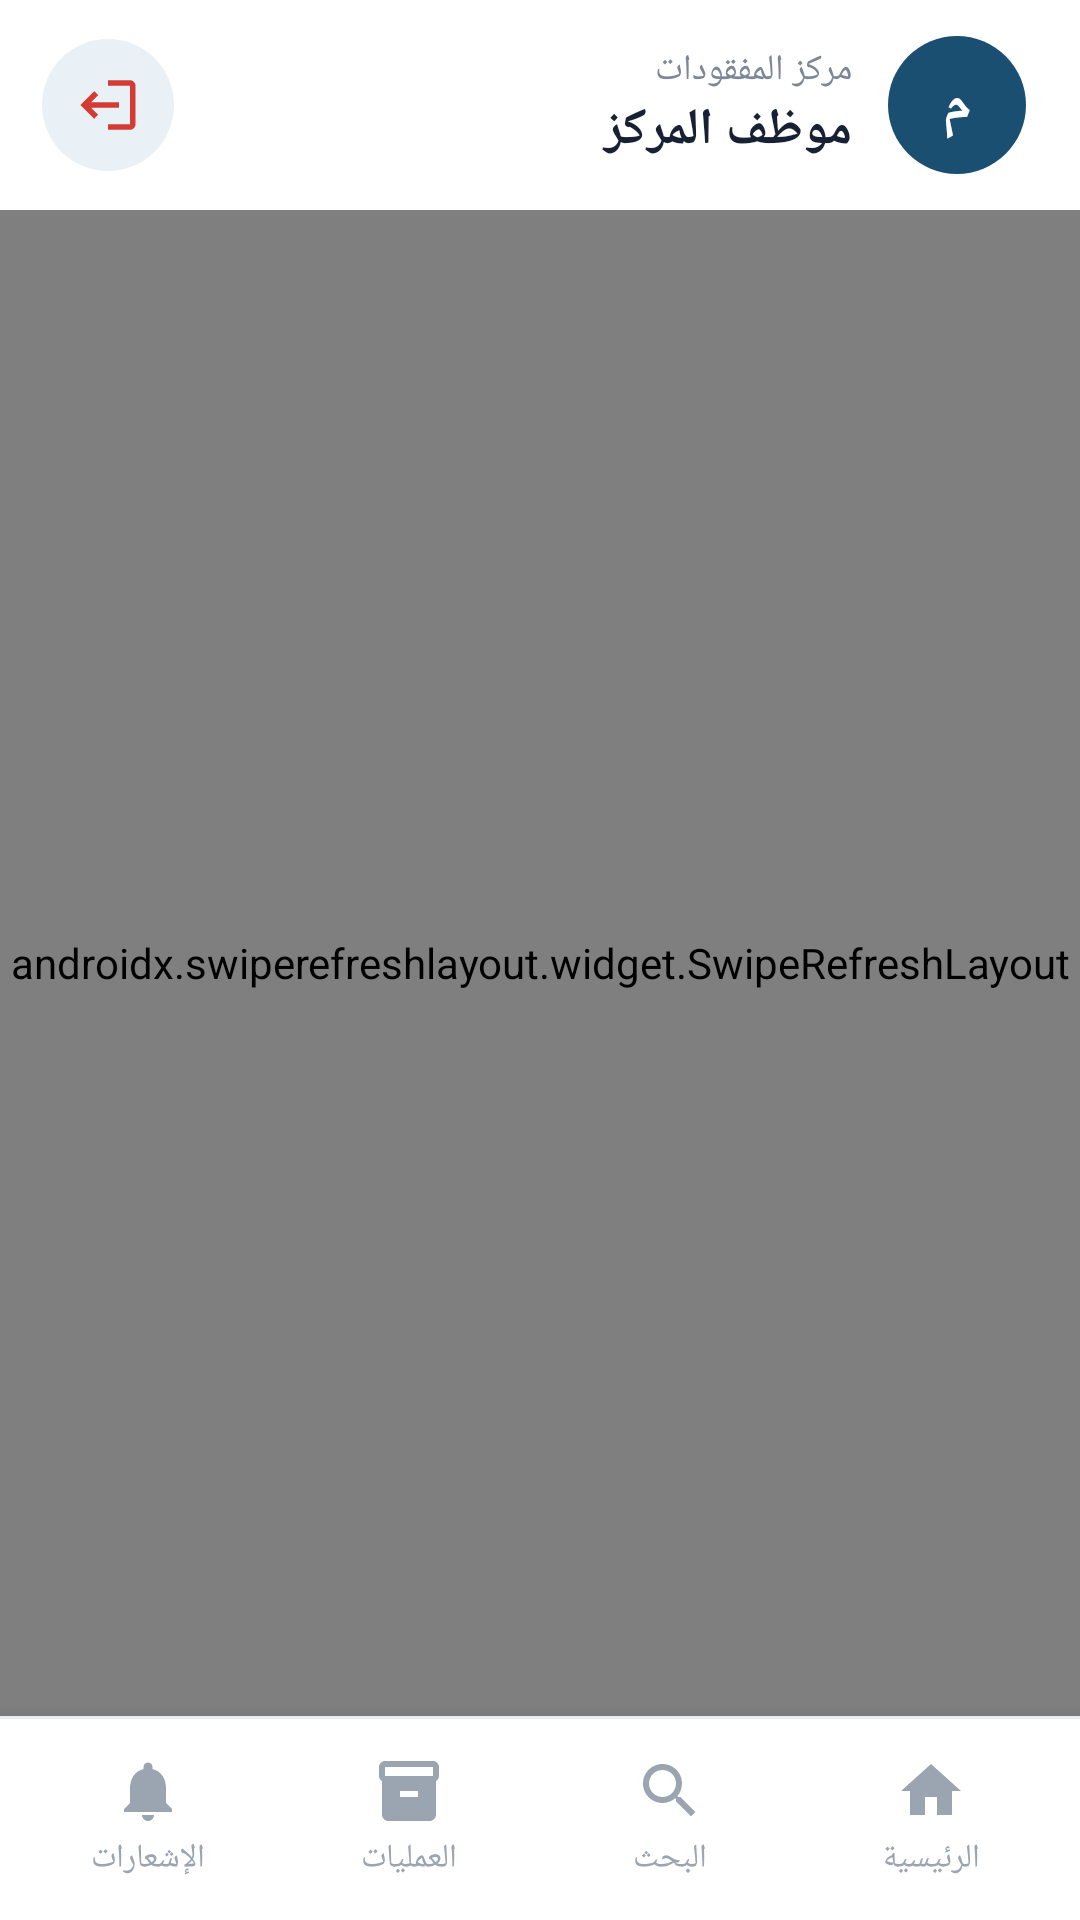

Point at icon controls on the screen. Image size 1080x1920, points as point (x, y).
bell: point (148, 1791)
box: point (409, 1791)
